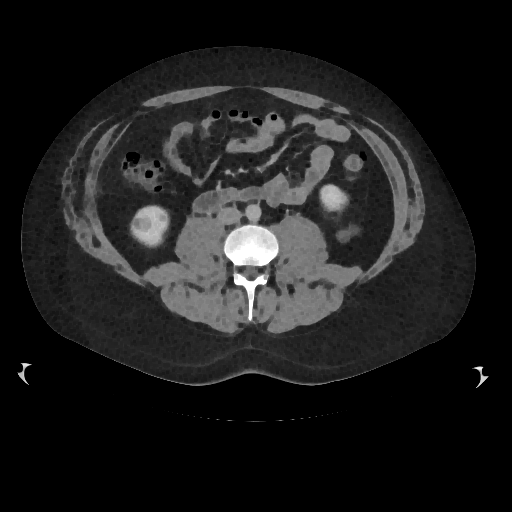Lesion: (132, 216, 155, 236)
